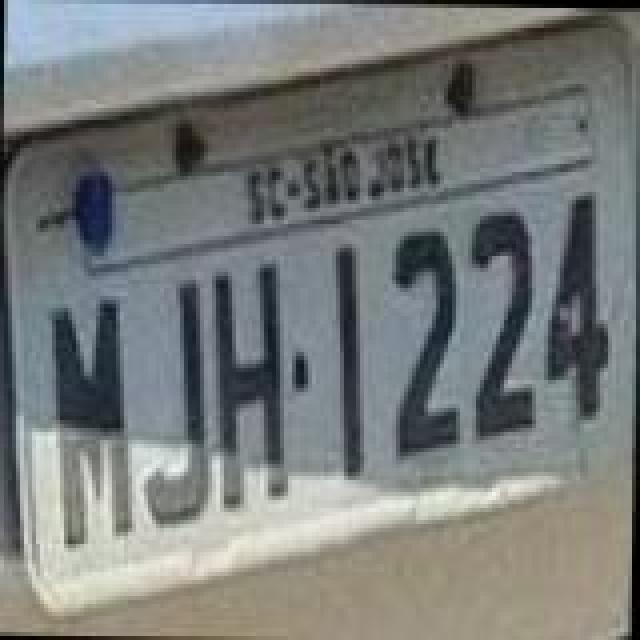1: (330, 240, 370, 484)
2: (390, 230, 470, 458), (464, 212, 540, 440)
4: (542, 194, 614, 422)
H: (210, 256, 294, 512)
J: (144, 280, 216, 528)
M: (44, 300, 140, 548)
